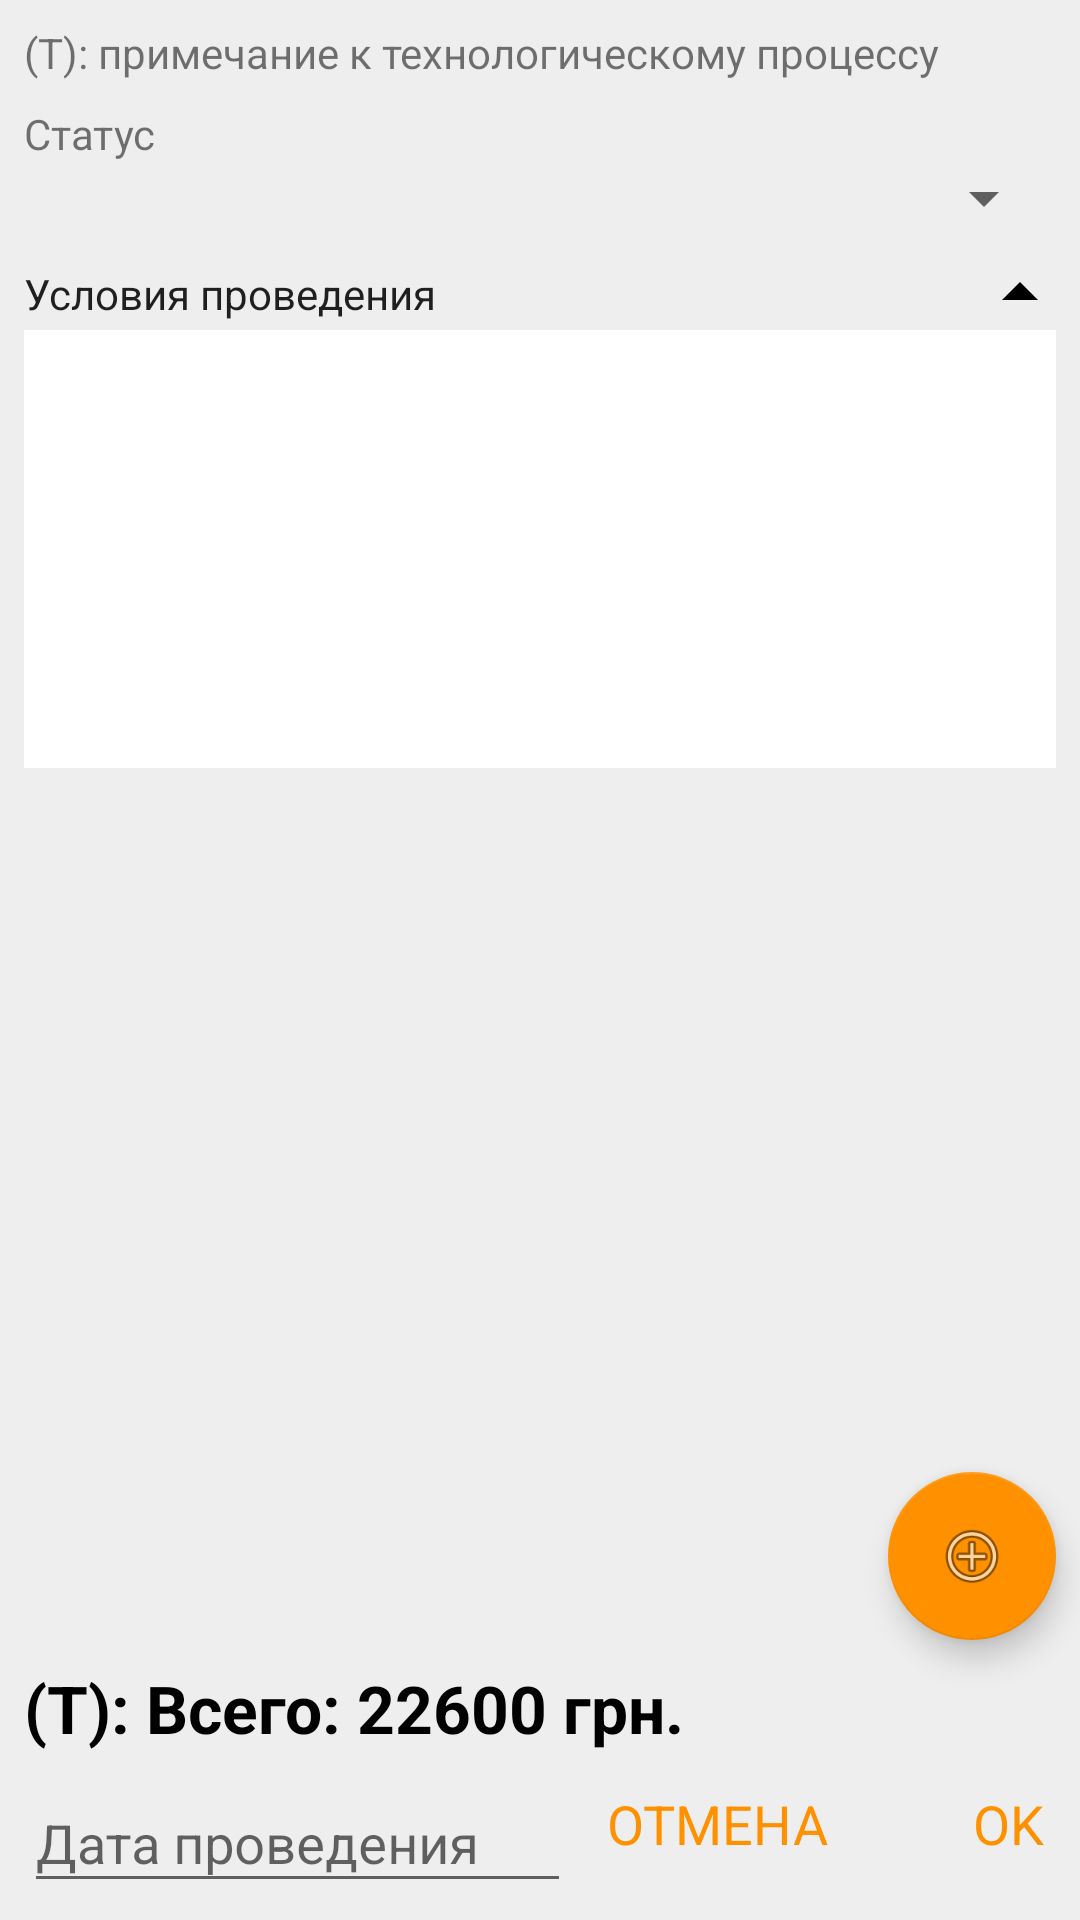

Locate icon controls on the screen. Image size 1080*1920, boxes as detection(x1, y1, x2, y2).
add: detection(888, 1472, 1056, 1640)
